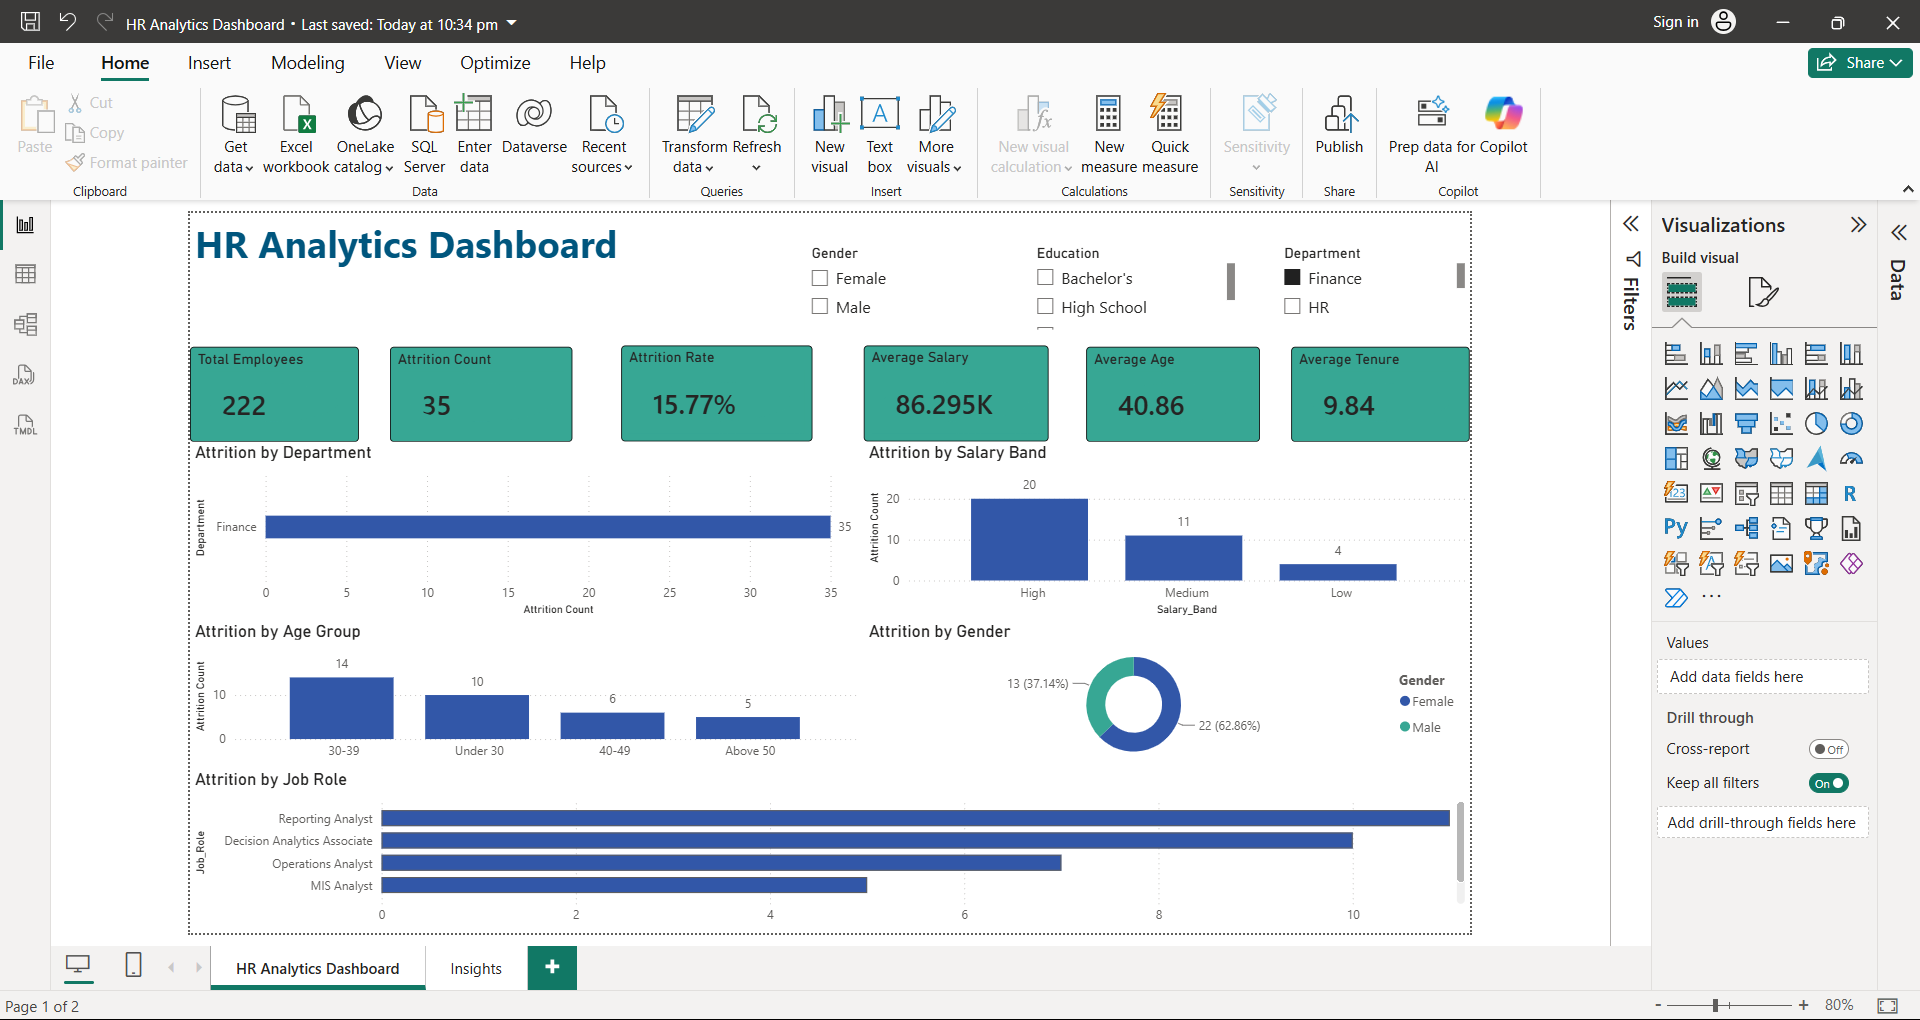

What the dashboard file says about the page in this screenshot:
{"tool":"powerbi","page":{"name":"HR Analytics Dashboard","canvas":[1280,720],"ordinal":0},"visuals":[{"type":"cardVisual","title":"Total Employees","fields":{"Data":["Measures (2).Total Employees"]},"box":[0,133.8,168.8,95],"z":0},{"type":"cardVisual","title":"Attrition Count","fields":{"Data":["Measures (2).Attrition Count"]},"box":[200,133.8,182.5,95],"z":1000},{"type":"cardVisual","title":"Attrition Rate","fields":{"Data":["Measures (2).Attrition Rate"]},"box":[431.2,132.5,191.2,96.2],"z":2000},{"type":"cardVisual","title":"Average Salary","fields":{"Data":["Measures (2).Average Salary"]},"box":[673.8,132.5,185,96.2],"z":3000},{"type":"cardVisual","title":"Average Age","fields":{"Data":["Measures (2).Average Age"]},"box":[896.2,133.8,173.8,95],"z":4000},{"type":"cardVisual","title":"Average Tenure","fields":{"Data":["Measures (2).Average Tenure"]},"box":[1101.2,133.8,178.8,95],"z":5000},{"type":"clusteredBarChart","title":"Attrition by Department","fields":{"Category":["HR_Analytics_Data.Department"],"Y":["Measures (2).Attrition Count"]},"box":[0,228.8,673.8,178.8],"z":6000},{"type":"donutChart","title":"Attrition by Gender","fields":{"Category":["HR_Analytics_Data.Gender"],"Y":["Measures (2).Attrition Count"]},"box":[673.8,407.5,606.2,148.8],"z":7000},{"type":"clusteredColumnChart","title":"Attrition by Age Group","fields":{"Category":["HR_Analytics_Data.Age_Group"],"Y":["Measures (2).Attrition Count"]},"box":[0,407.5,673.8,148.8],"z":8000},{"type":"clusteredColumnChart","title":"Attrition by Salary Band","fields":{"Category":["HR_Analytics_Data.Salary_Band"],"Y":["Measures (2).Attrition Count"]},"box":[673.8,228.8,606.2,178.8],"z":9000},{"type":"clusteredBarChart","title":"Attrition by Job Role","fields":{"Category":["HR_Analytics_Data.Job_Role"],"Y":["Measures (2).Attrition Count"]},"box":[0,556.2,1280,163.8],"z":10000},{"type":"textbox","box":[0,0,527.5,121.2],"z":11000},{"type":"slicer","fields":{"Values":["HR_Analytics_Data.Education"]},"box":[833.8,26.2,216.2,95],"z":12000},{"type":"slicer","fields":{"Values":["HR_Analytics_Data.Gender"]},"box":[608.8,26.2,200,95],"z":13000},{"type":"slicer","fields":{"Values":["HR_Analytics_Data.Department"]},"box":[1081.2,26.2,198.8,90],"z":14000}]}

Visuals, with their boxes on the page's 1280x720 design canvas (x1, y1, x2, y2). These are canvas units, not pixel positions in the 1920x1020 screenshot, which may show the page scaled, cropped or inside an application window:
"Total Employees" cardVisual: l=0, t=134, r=169, b=229
"Attrition Count" cardVisual: l=200, t=134, r=382, b=229
"Attrition Rate" cardVisual: l=431, t=132, r=622, b=229
"Average Salary" cardVisual: l=674, t=132, r=859, b=229
"Average Age" cardVisual: l=896, t=134, r=1070, b=229
"Average Tenure" cardVisual: l=1101, t=134, r=1280, b=229
"Attrition by Department" clusteredBarChart: l=0, t=229, r=674, b=408
"Attrition by Gender" donutChart: l=674, t=408, r=1280, b=556
"Attrition by Age Group" clusteredColumnChart: l=0, t=408, r=674, b=556
"Attrition by Salary Band" clusteredColumnChart: l=674, t=229, r=1280, b=408
"Attrition by Job Role" clusteredBarChart: l=0, t=556, r=1280, b=720
textbox: l=0, t=0, r=528, b=121
slicer - HR_Analytics_Data.Education: l=834, t=26, r=1050, b=121
slicer - HR_Analytics_Data.Gender: l=609, t=26, r=809, b=121
slicer - HR_Analytics_Data.Department: l=1081, t=26, r=1280, b=116
